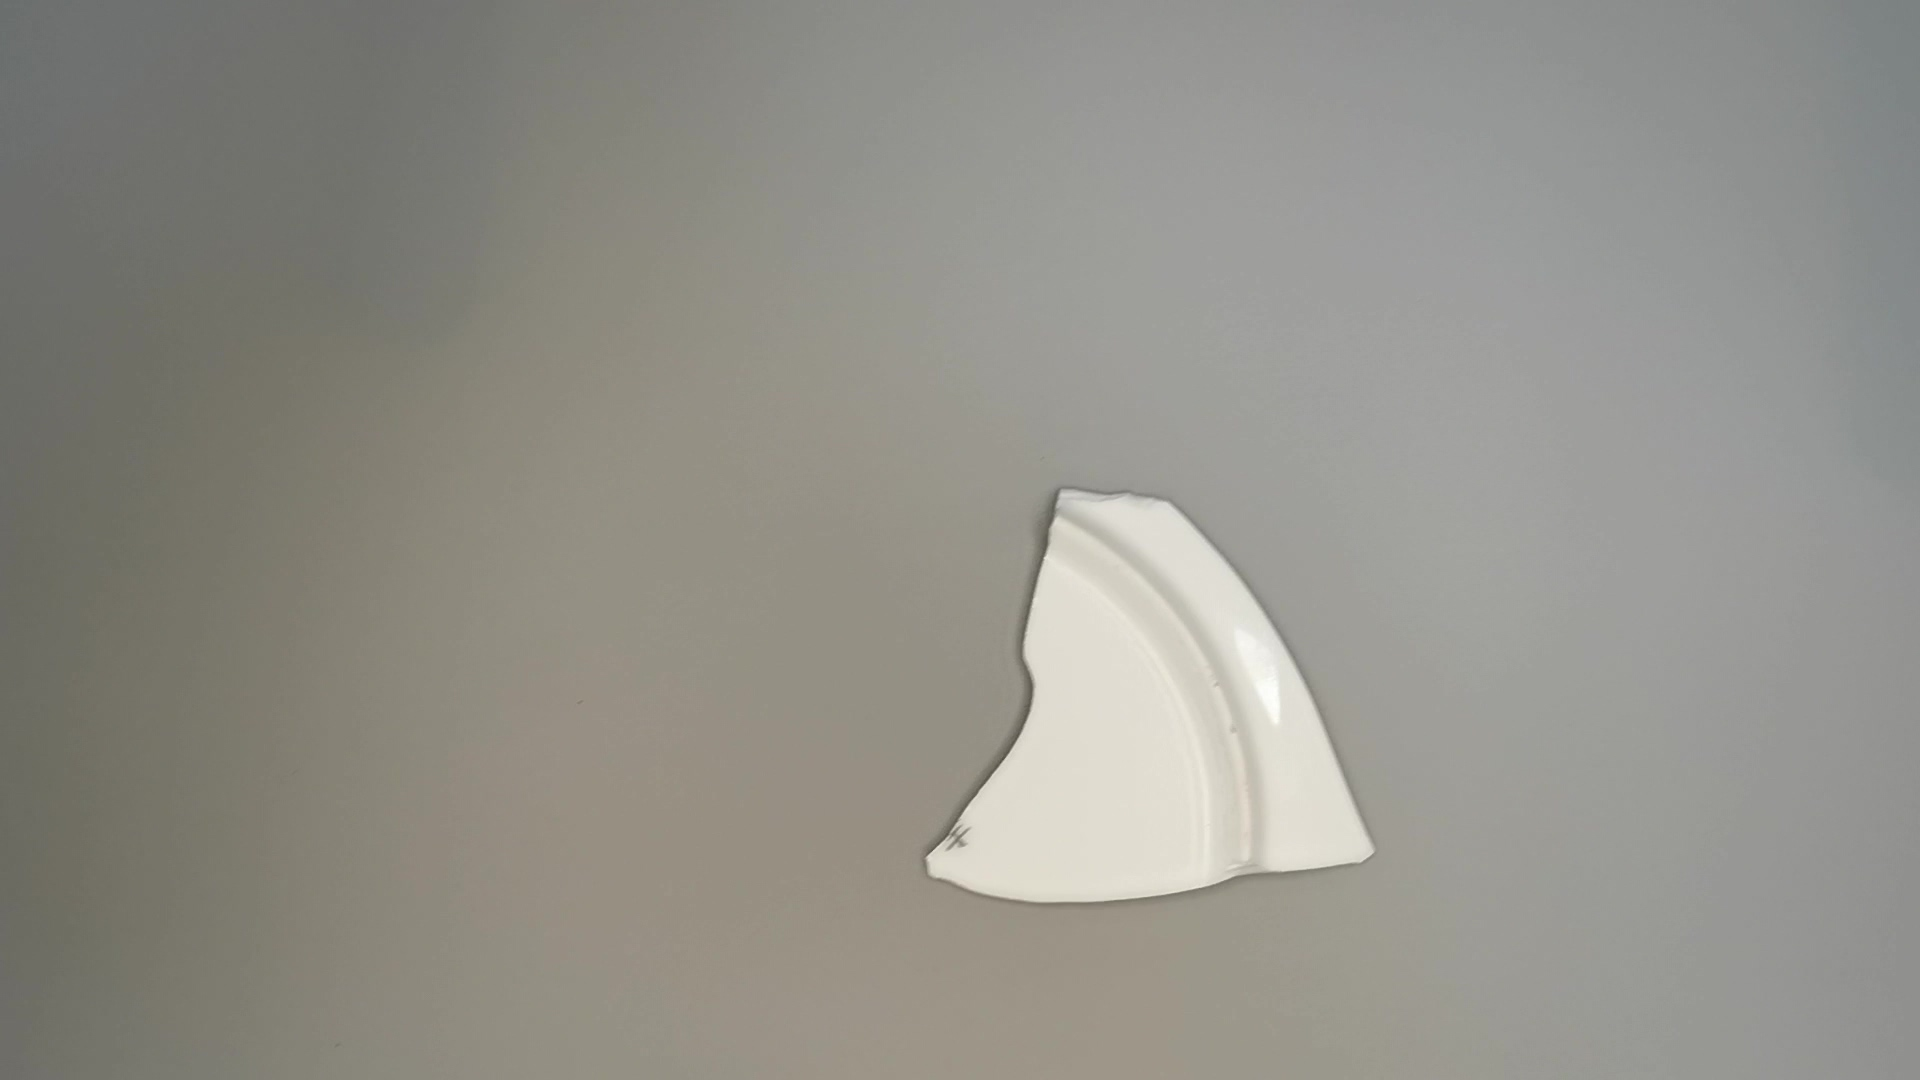ceramic: (922, 483, 1389, 916)
